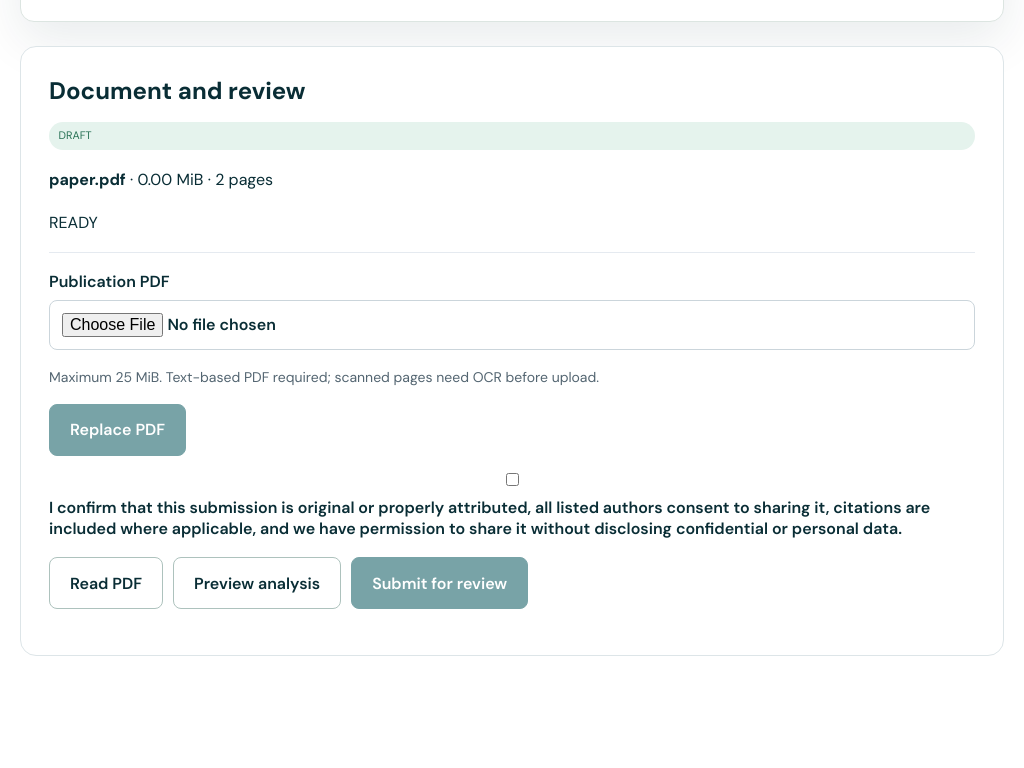
Test case: researcher draft editor › returns to the workspace only on successful submission (false)
(page scrolled)
Expected: the text "paper.pdf" is shown, [49, 169, 126, 190]
Step 1. Click the checkbox → (512, 480), box [53, 473, 972, 486]
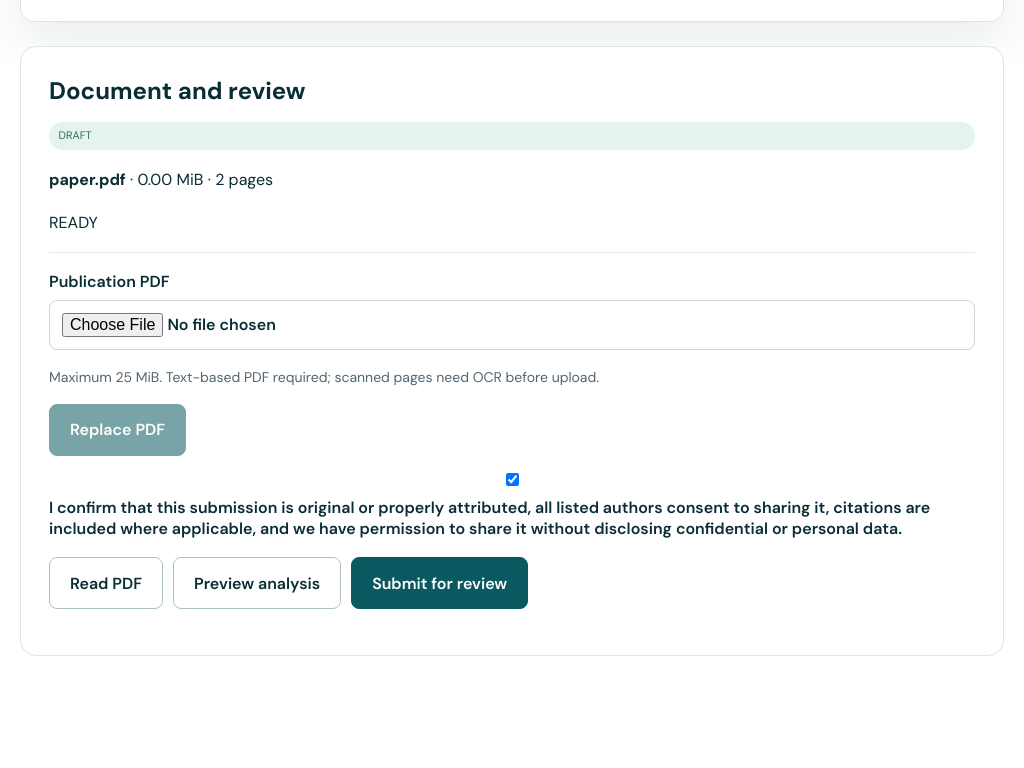
Step 2. Click the button "Submit for review" → (440, 583), box [351, 557, 528, 609]
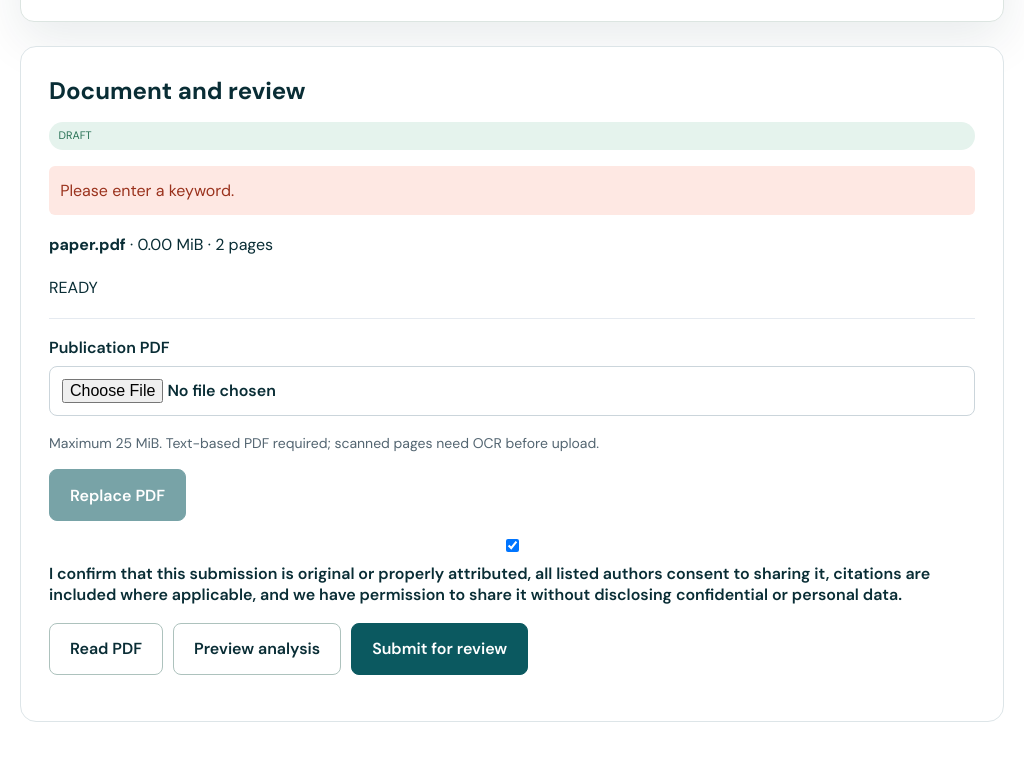
Expected: the message "Please enter a keyword." is shown, [49, 166, 975, 215]
